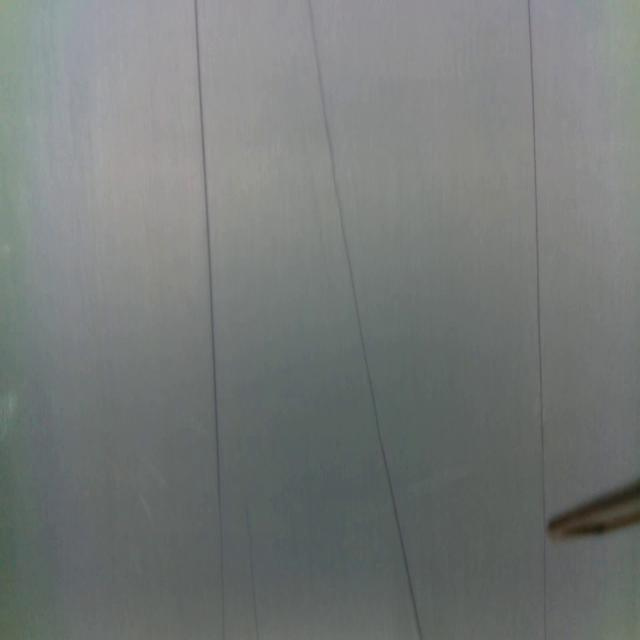crease: (307, 0, 423, 638), (194, 0, 226, 640), (528, 0, 548, 640), (243, 490, 260, 640)
